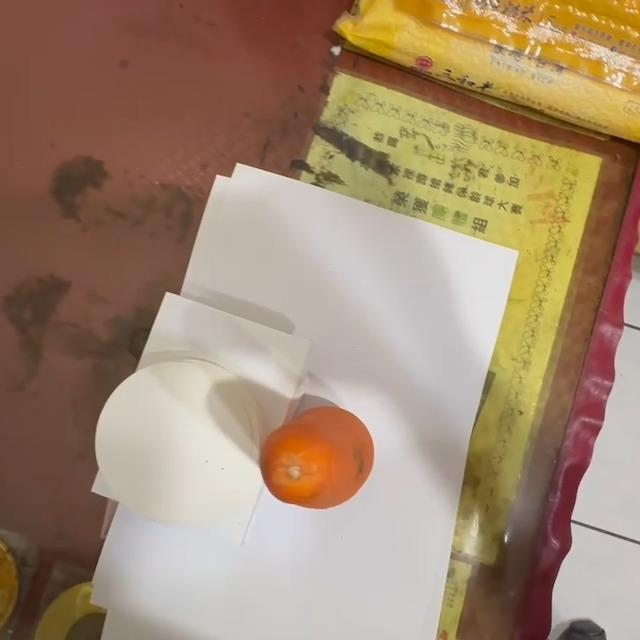carrot: (257, 406, 374, 513)
